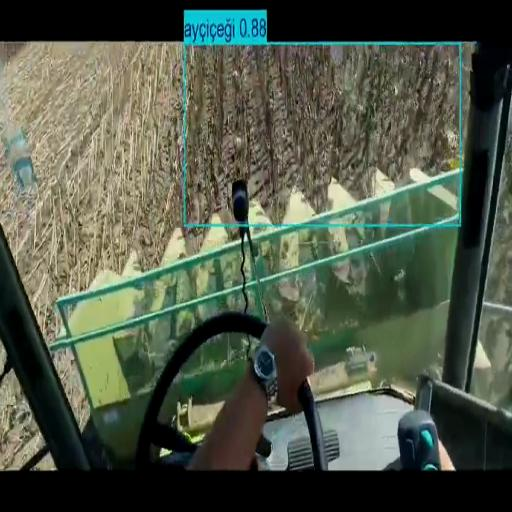ayc: (185, 45, 458, 223)
